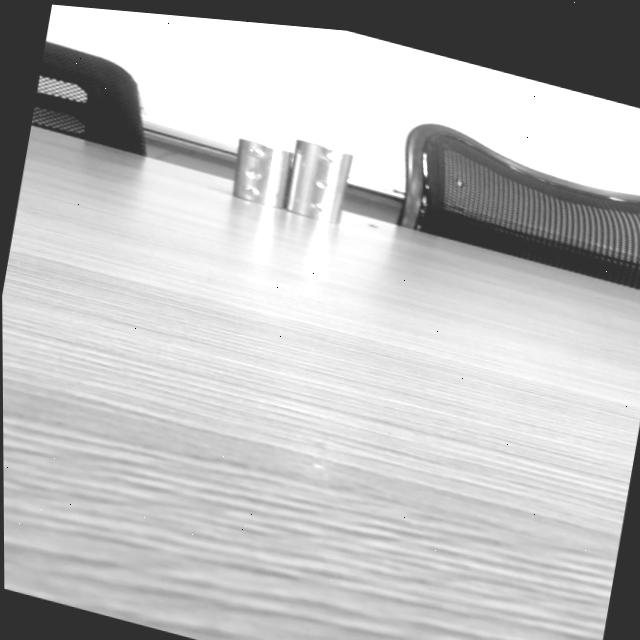Co_Lon: (281, 140, 354, 225)
Co_Nho: (225, 138, 298, 210)
